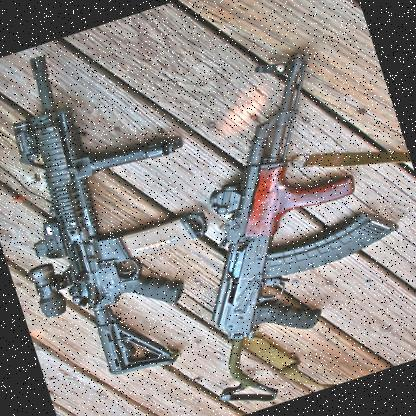rifle: (118, 38, 416, 416), (0, 18, 257, 402)
